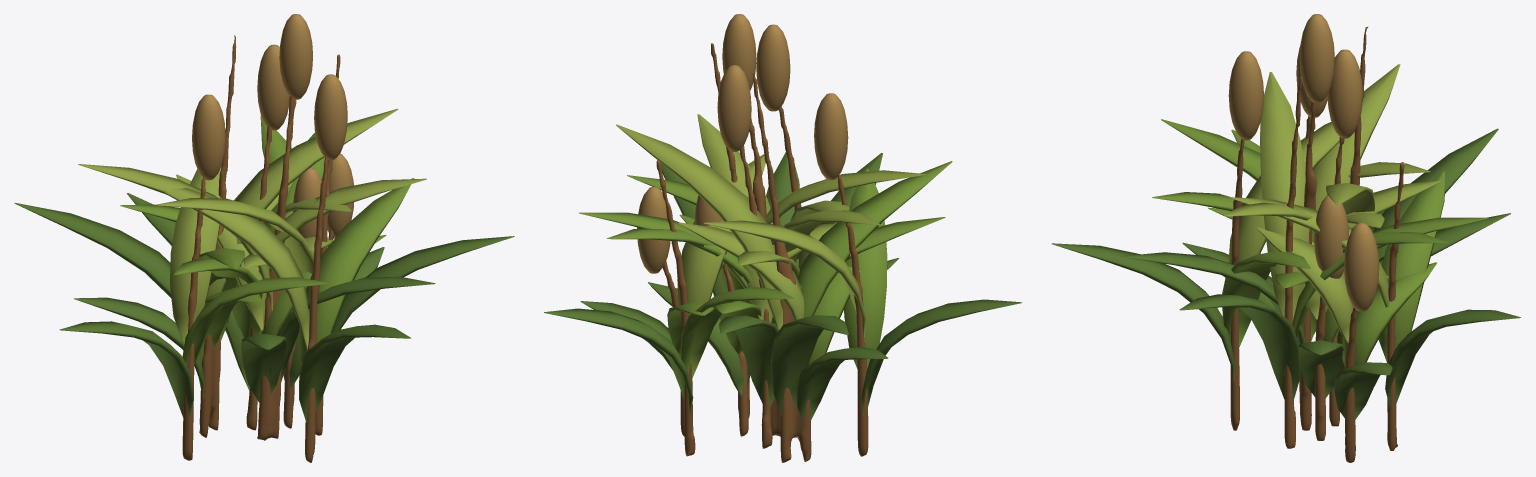
File: reeds.glb
3 views of the same model, side by side, from view 1: azimuth 30°, elevation 25°; view 2: azimuth 150°, elevation 25°; view 3: azimuth 270°, elevation 25° (orthographic). The views are drawn at different scales.
Parts seen in each view (by area): view 1: Reeds · curved blades, Reeds · stems, Reed seedhead.002, Reed seedhead.001, Reed seedhead.005, Reed seedhead.003, Reed seedhead.004, Reed seedhead; view 2: Reeds · curved blades, Reeds · stems, Reed seedhead.001, Reed seedhead.002, Reed seedhead.003, Reed seedhead.005, Reed seedhead.004, Reed seedhead; view 3: Reeds · curved blades, Reeds · stems, Reed seedhead.001, Reed seedhead.004, Reed seedhead.005, Reed seedhead.003, Reed seedhead, Reed seedhead.002.
Boxes of the visible parts, box(x1,y1,x2,y2) form: Reeds · curved blades: box(14, 108, 514, 422); Reeds · stems: box(182, 35, 340, 462); Reed seedhead.002: box(192, 94, 225, 180); Reed seedhead.001: box(314, 74, 347, 159); Reed seedhead.005: box(279, 14, 312, 99); Reed seedhead.003: box(257, 44, 289, 130); Reed seedhead.004: box(322, 153, 353, 238); Reed seedhead: box(292, 167, 321, 238); Reeds · curved blades: box(544, 114, 1021, 421); Reeds · stems: box(656, 43, 868, 462); Reed seedhead.001: box(756, 24, 790, 111); Reed seedhead.002: box(814, 93, 848, 179); Reed seedhead.003: box(717, 65, 751, 151); Reed seedhead.005: box(722, 14, 756, 90); Reed seedhead.004: box(637, 187, 670, 273); Reed seedhead: box(694, 195, 721, 226); Reeds · curved blades: box(1051, 64, 1520, 419); Reeds · stems: box(1230, 26, 1404, 462); Reed seedhead.001: box(1228, 51, 1263, 140); Reed seedhead.004: box(1344, 222, 1379, 311); Reed seedhead.005: box(1299, 14, 1334, 102); Reed seedhead.003: box(1327, 49, 1362, 138); Reed seedhead: box(1314, 195, 1349, 278); Reed seedhead.002: box(1296, 46, 1327, 117).
Bounding box in the file's own units: 1.81 × 1.74 × 1.73.
